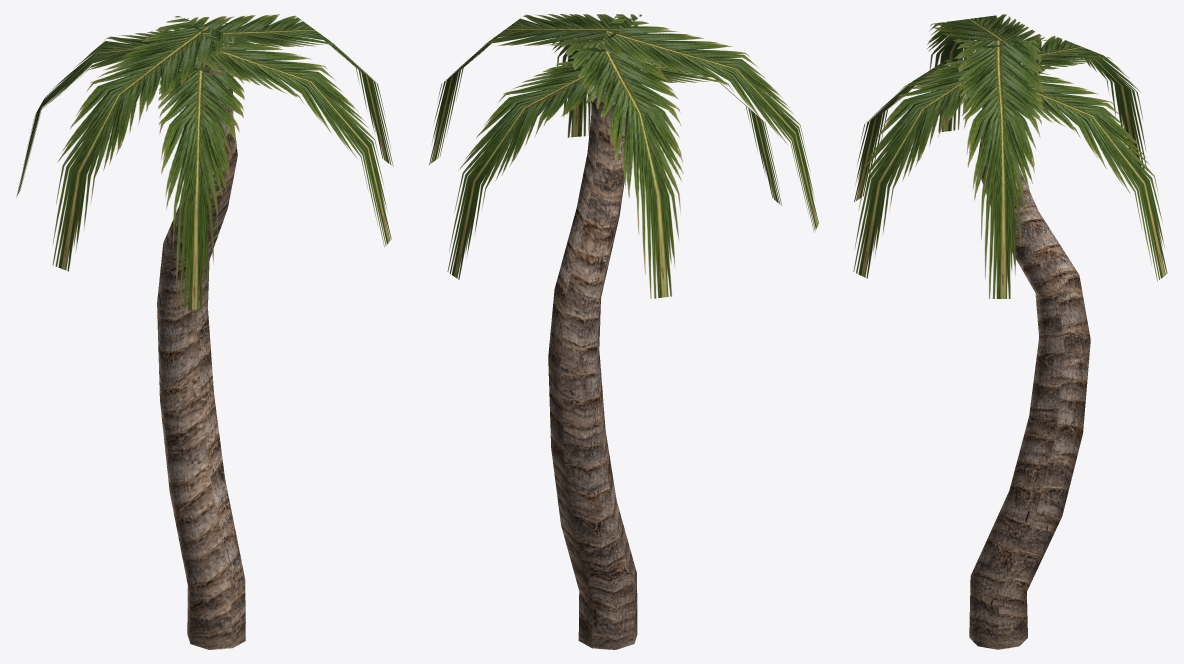
File: CoastalPalm.glb
3 renders of one model, left to right at view 1: azimuth 30°, elevation 25°; view 2: azimuth 150°, elevation 25°; view 3: azimuth 270°, elevation 25°, orthographic. The views are drawn at different scales.
Visible parts, largest first — view 1: Palm; view 2: Palm; view 3: Palm.
Boxes of the visible parts, x1,y1,x2,y2 form: Palm: (16,14,393,649); Palm: (429,14,818,649); Palm: (853,14,1167,649).
Size of the model in its own units: 3 by 4.87 by 2.39.
1 material, 1 textured.
